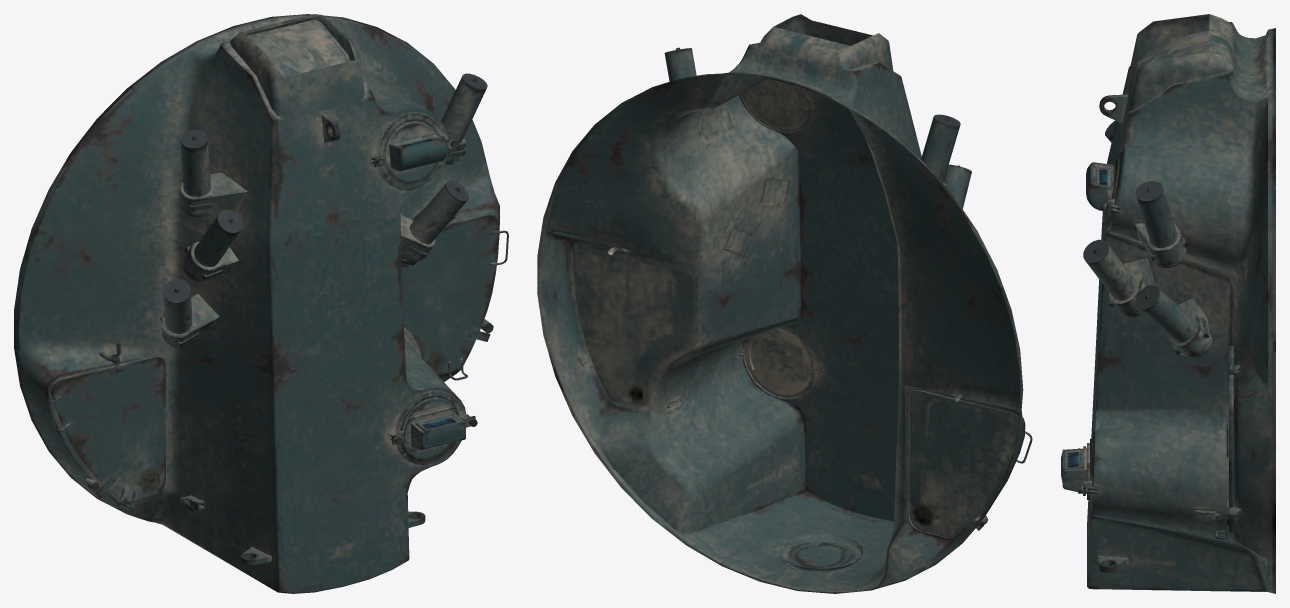
The model's file is Turret_01.glb.
The picture shows the model from 3 angles, left to right: view 1: azimuth 30°, elevation 25°; view 2: azimuth 150°, elevation 25°; view 3: azimuth 270°, elevation 25°; orthographic projection. The views are drawn at different scales.
Parts seen in each view (by area): view 1: set_0_group_0; view 2: set_0_group_0; view 3: set_0_group_0.
Boxes of the visible parts, x1,y1,x2,y2 form: set_0_group_0: (14,14,508,593); set_0_group_0: (537,14,1032,593); set_0_group_0: (1061,14,1275,593).
Bounding box in the file's own units: 1.91 × 2 × 0.726.
Materials: 1 (1 with a texture image).
